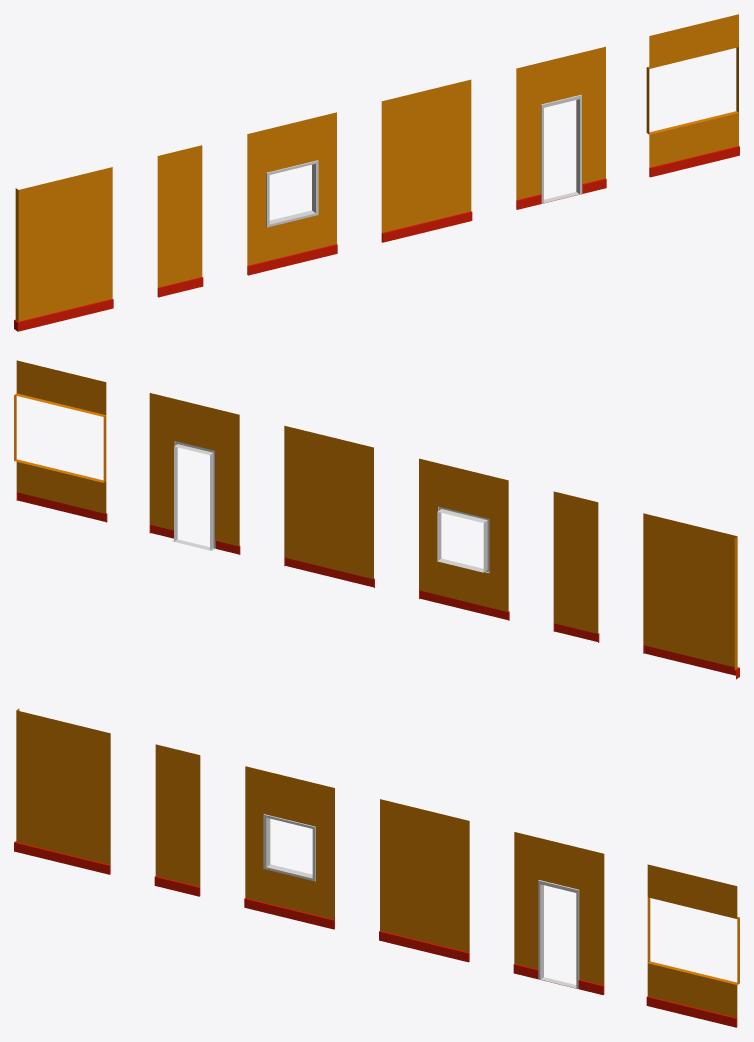
File: Walls.fbx
3 renders of one model, top to bottom at view 1: azimuth 30°, elevation 25°; view 2: azimuth 150°, elevation 25°; view 3: azimuth 330°, elevation 25°, orthographic.
Visible parts, largest first — view 1: NormalWall.002, NormalWall, WindowWall, DoorWall, NormalWall.003, NormalWall.001; view 2: NormalWall.002, NormalWall, WindowWall, DoorWall, NormalWall.003, NormalWall.001; view 3: NormalWall.002, NormalWall, WindowWall, DoorWall, NormalWall.003, NormalWall.001.
Boxes of the visible parts, left/top/right/bottom form: NormalWall.002: left=14, top=167, right=113, bottom=331; NormalWall: left=381, top=79, right=472, bottom=242; WindowWall: left=247, top=112, right=337, bottom=275; DoorWall: left=516, top=46, right=606, bottom=209; NormalWall.003: left=646, top=14, right=739, bottom=177; NormalWall.001: left=157, top=145, right=203, bottom=297; NormalWall.002: left=643, top=513, right=739, bottom=679; NormalWall: left=284, top=425, right=374, bottom=587; WindowWall: left=419, top=458, right=509, bottom=620; DoorWall: left=149, top=393, right=240, bottom=554; NormalWall.003: left=14, top=360, right=107, bottom=522; NormalWall.001: left=553, top=491, right=599, bottom=642; NormalWall.002: left=14, top=708, right=110, bottom=874; NormalWall: left=379, top=799, right=469, bottom=962; WindowWall: left=244, top=766, right=334, bottom=929; DoorWall: left=513, top=832, right=604, bottom=994; NormalWall.003: left=646, top=864, right=739, bottom=1027; NormalWall.001: left=154, top=744, right=200, bottom=896.
Size of the model in its own units: 1611 by 300 by 16.36.
